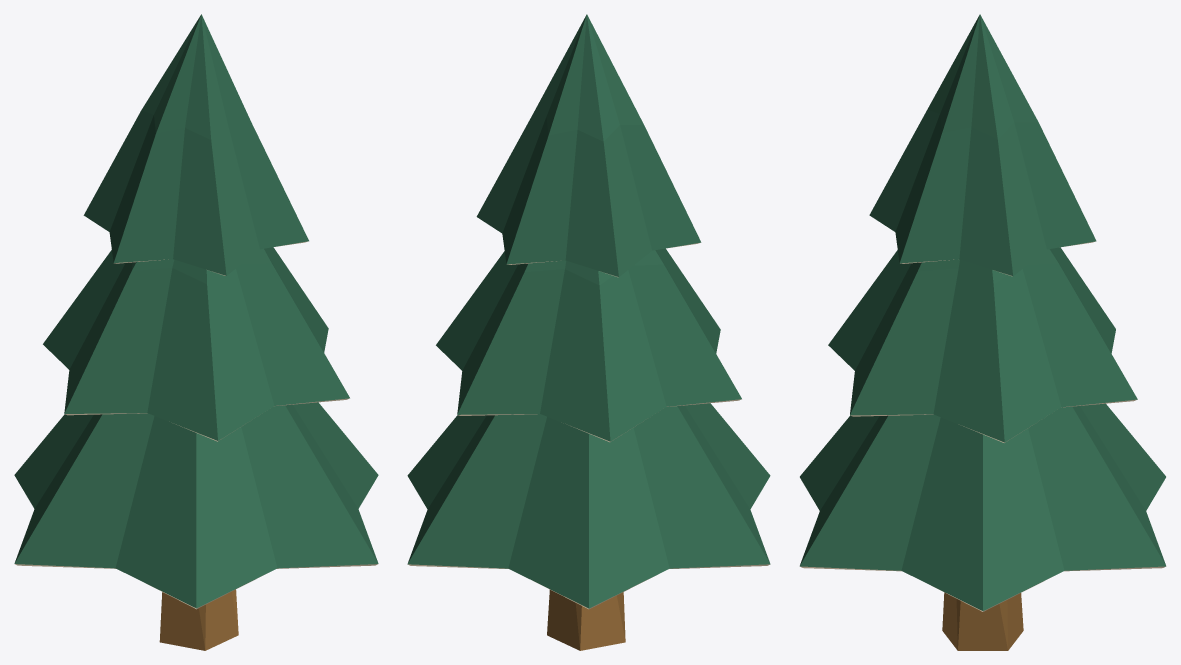
3 renders of one model, left to right at view 1: azimuth 30°, elevation 25°; view 2: azimuth 150°, elevation 25°; view 3: azimuth 270°, elevation 25°, orthographic.
Parts seen in each view (by area): view 1: Tree_Pine_B_Geometry; view 2: Tree_Pine_B_Geometry; view 3: Tree_Pine_B_Geometry.
Part boxes in pixels (x1=…): Tree_Pine_B_Geometry: x1=14, y1=14, x2=378, y2=650; Tree_Pine_B_Geometry: x1=407, y1=14, x2=770, y2=650; Tree_Pine_B_Geometry: x1=799, y1=14, x2=1166, y2=650.
Size of the model in its own units: 1.66 by 2.7 by 1.44.
